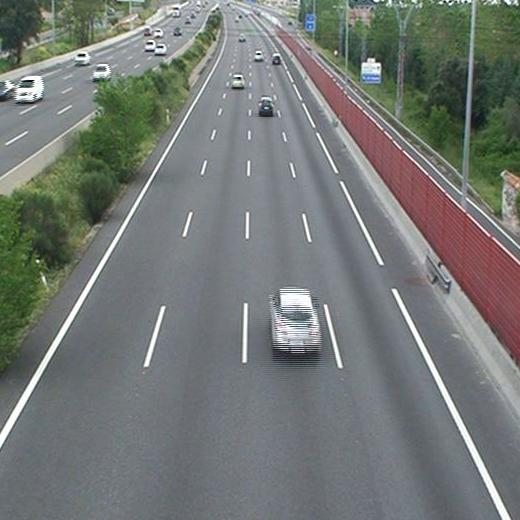car: (270, 289, 321, 352), (258, 97, 273, 115), (232, 74, 245, 89), (254, 51, 264, 61), (272, 54, 281, 64)
